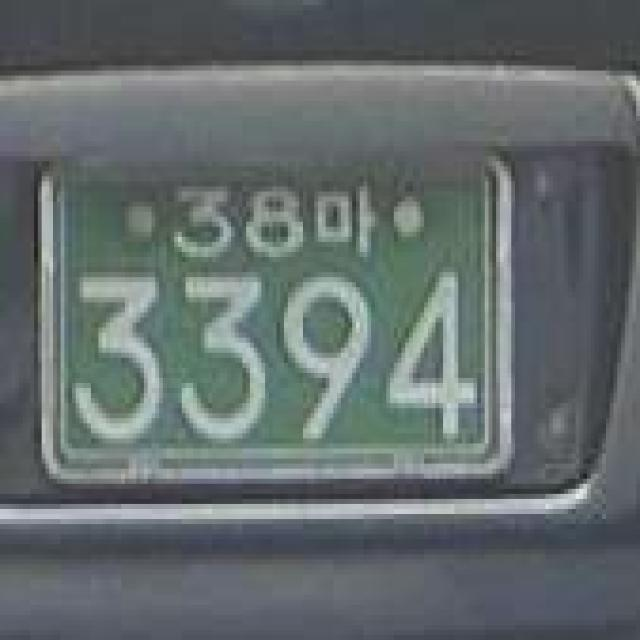illegal_plate: (33, 133, 523, 504)
